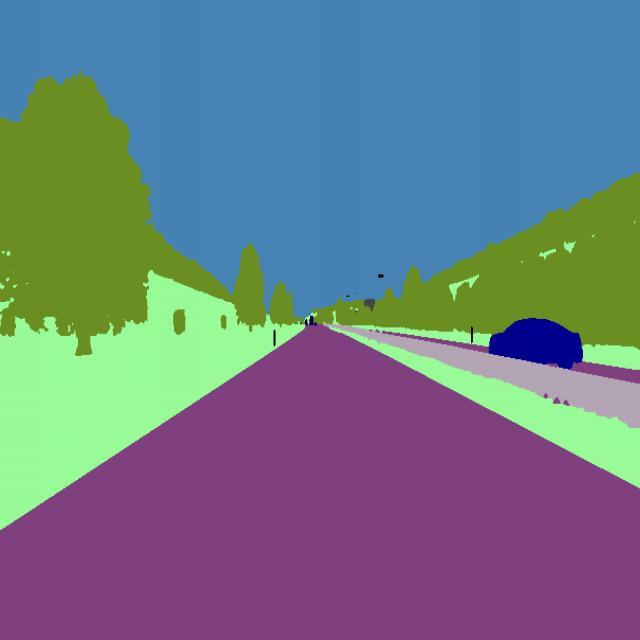safe: (482, 312, 585, 382)
